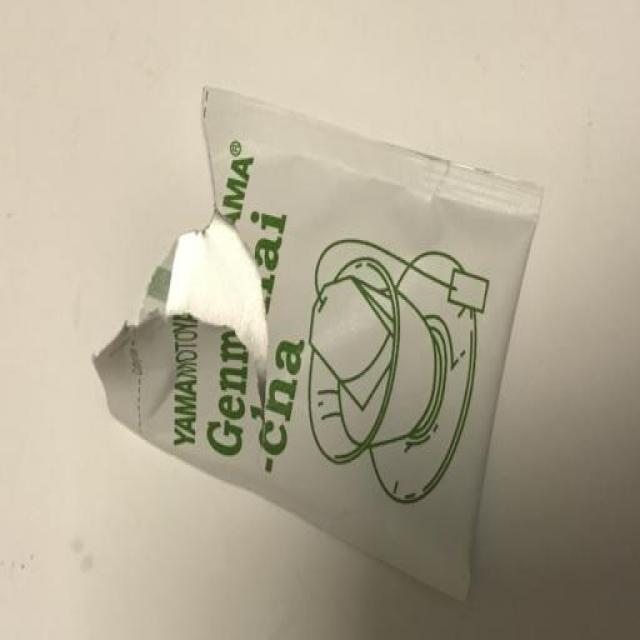plastic: (60, 34, 582, 640)
